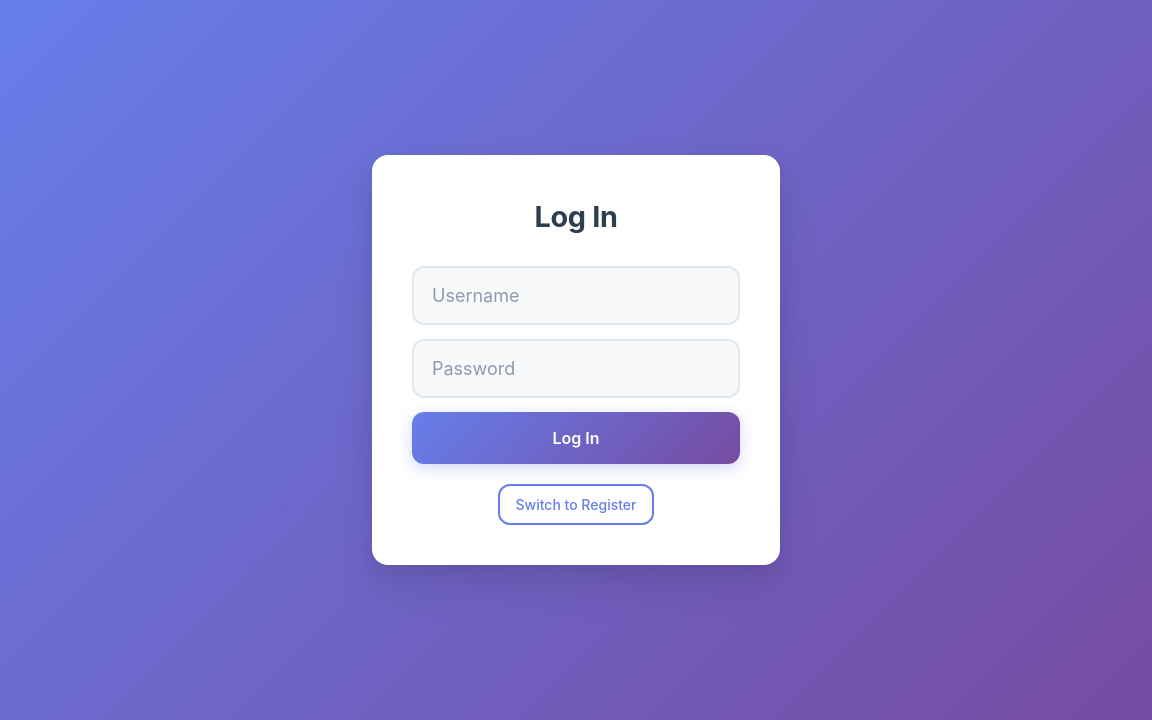
Scenario: App Component › returns to AuthForm after logout
Type "alice" into the field with placeholder "Username" at (576, 296), box 412,266 -> 740,325
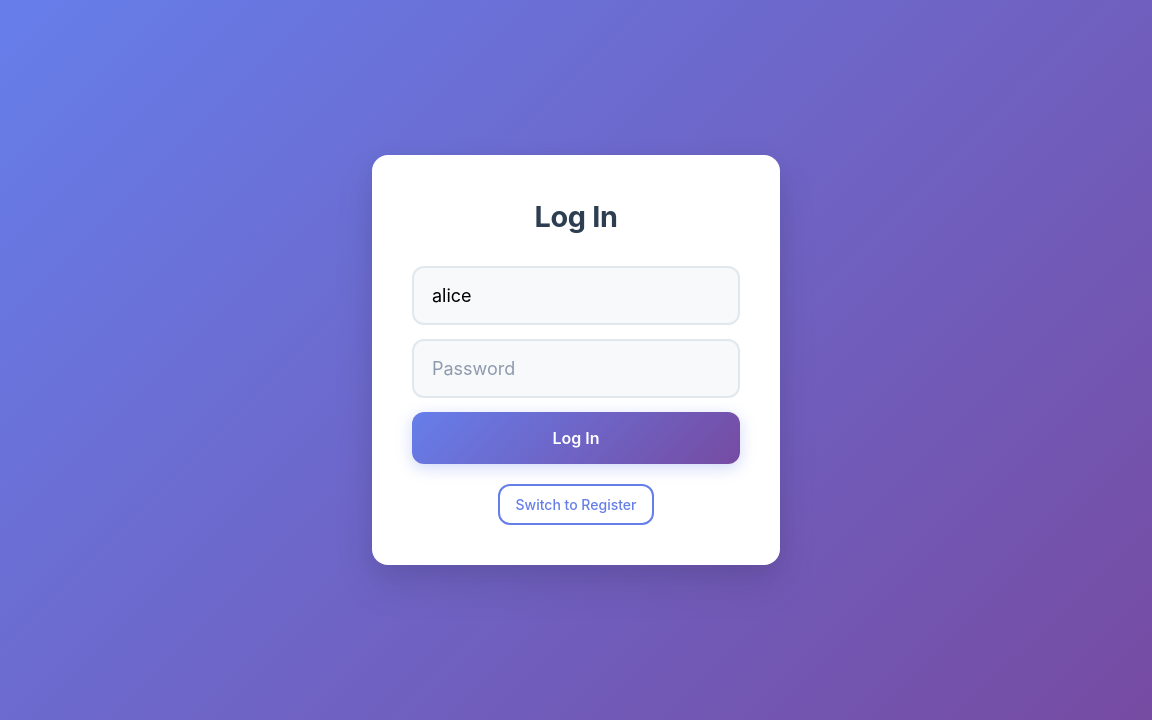
Type "password123" into the password field with placeholder "Password" at (576, 369), box 412,339 -> 740,398
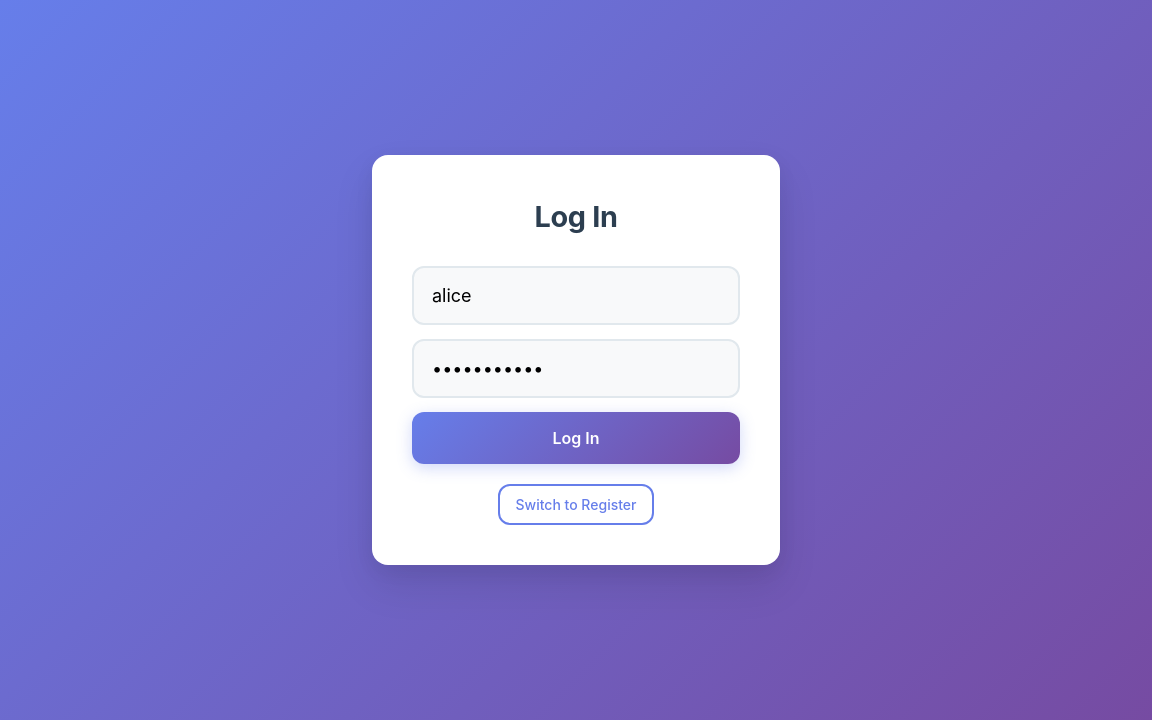
Submit the form "Log In", box 412,266 -> 740,464
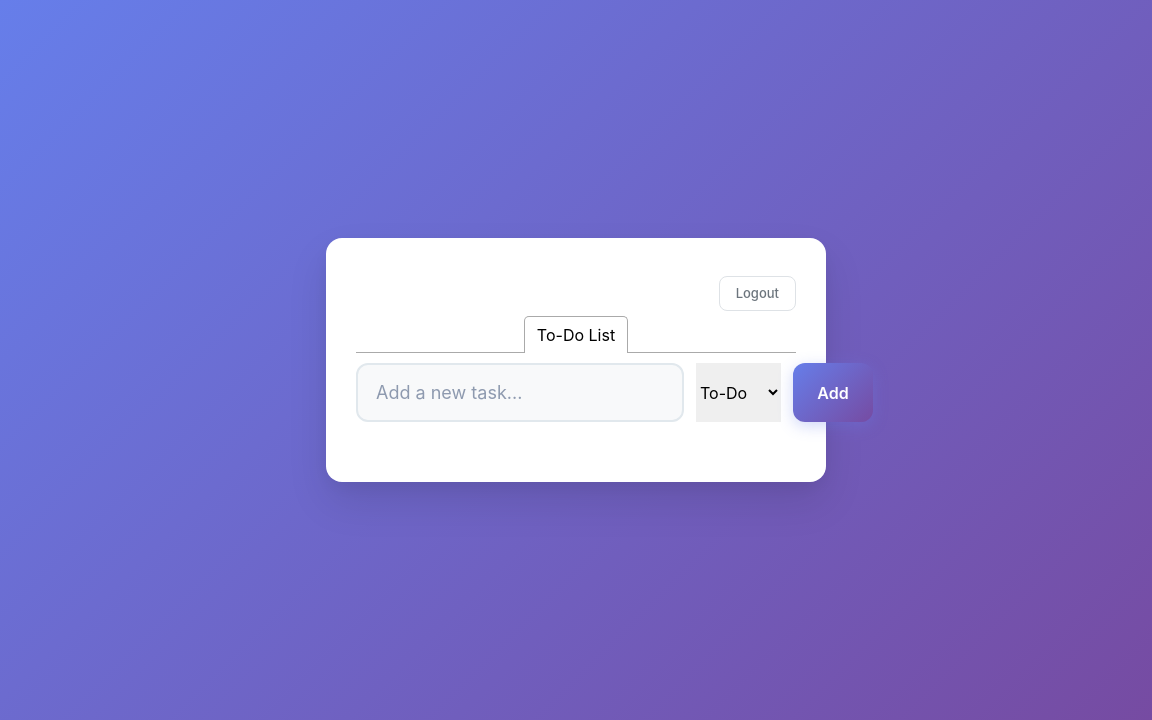
Click the button "Logout" at (757, 294), box 719,276 -> 796,311
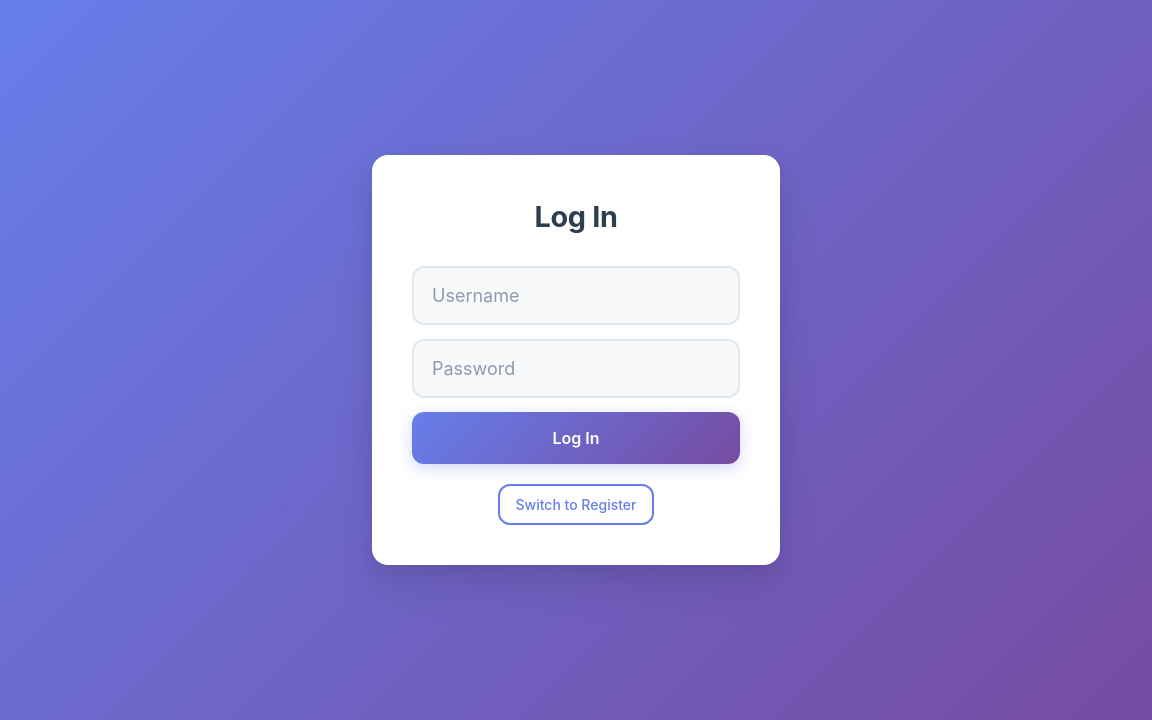
Check: the heading "Log In" is shown, box 534,199 -> 618,234
